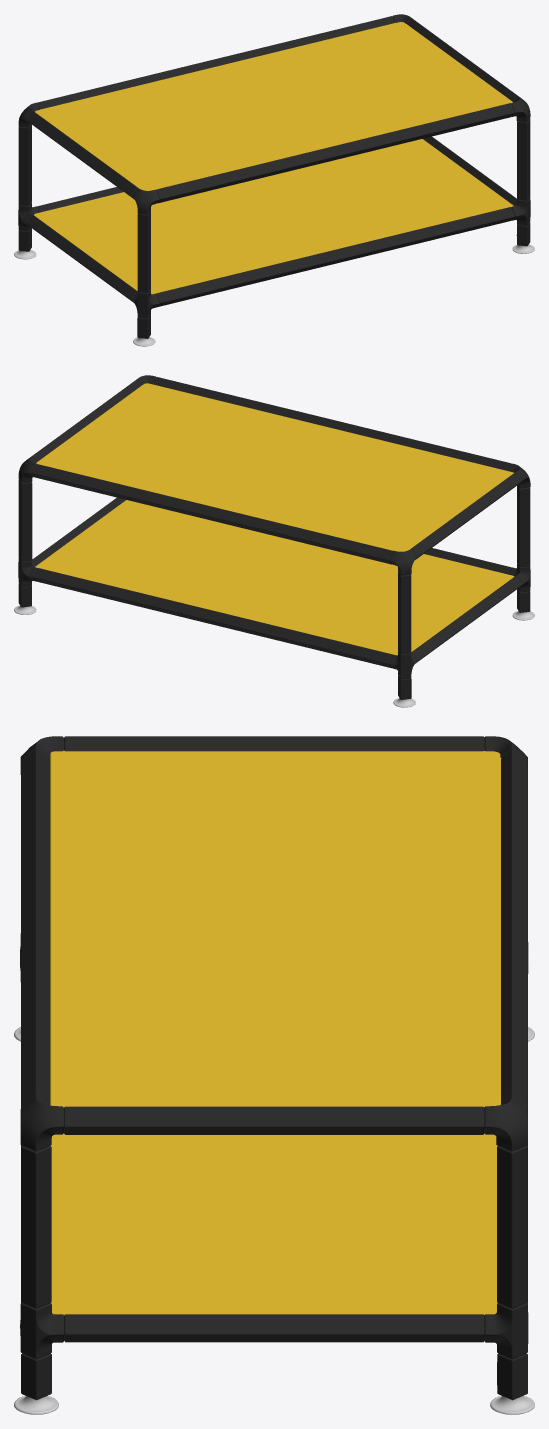
3 views of the same model, one above another, from view 1: azimuth 30°, elevation 25°; view 2: azimuth 150°, elevation 25°; view 3: azimuth 270°, elevation 25° (orthographic). The views are drawn at different scales.
Visible parts, largest first — view 1: 729x374x154; view 2: 729x374x154; view 3: 729x374x154.
Part boxes in pixels (x1,y1,x2,y2): 729x374x154: (14,14,534,346); 729x374x154: (14,375,534,707); 729x374x154: (14,736,534,1414).
Bounding box in the file's own units: 0.8189 × 0.2933 × 0.4633.
